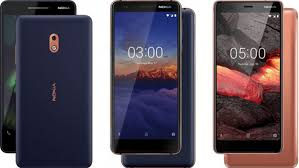nokia: (12, 12, 96, 168), (107, 1, 181, 154), (212, 1, 286, 154)
